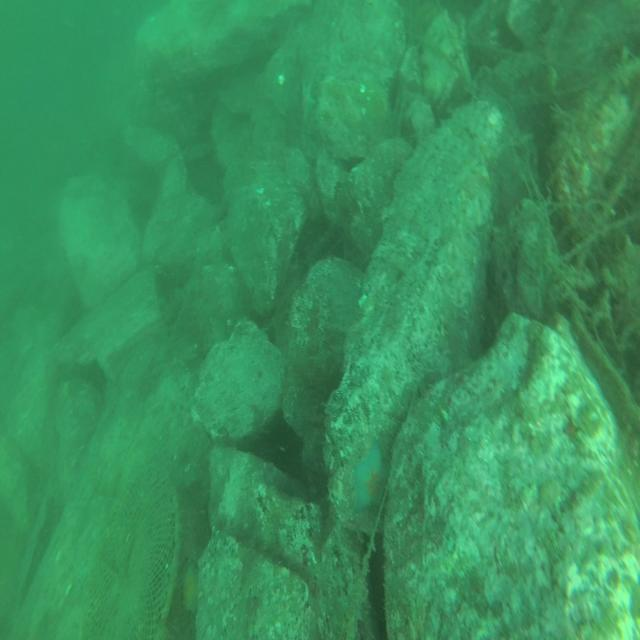echinus: (260, 416, 299, 479)
holothurian: (334, 174, 366, 213)
starfish: (354, 439, 390, 515), (179, 564, 200, 618)
